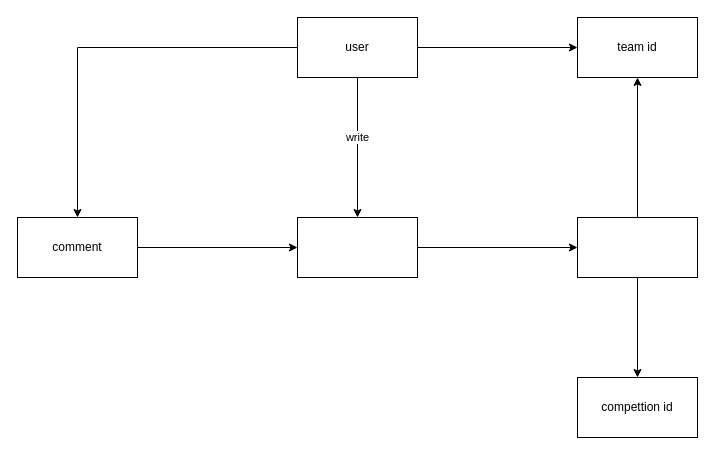
This 715x455 diagram has some shape labels left out. The centre of each missing label's shape, as x and y in pixels:
"article tag id" goes at (x=637, y=247).
"articles" goes at (x=357, y=247).
